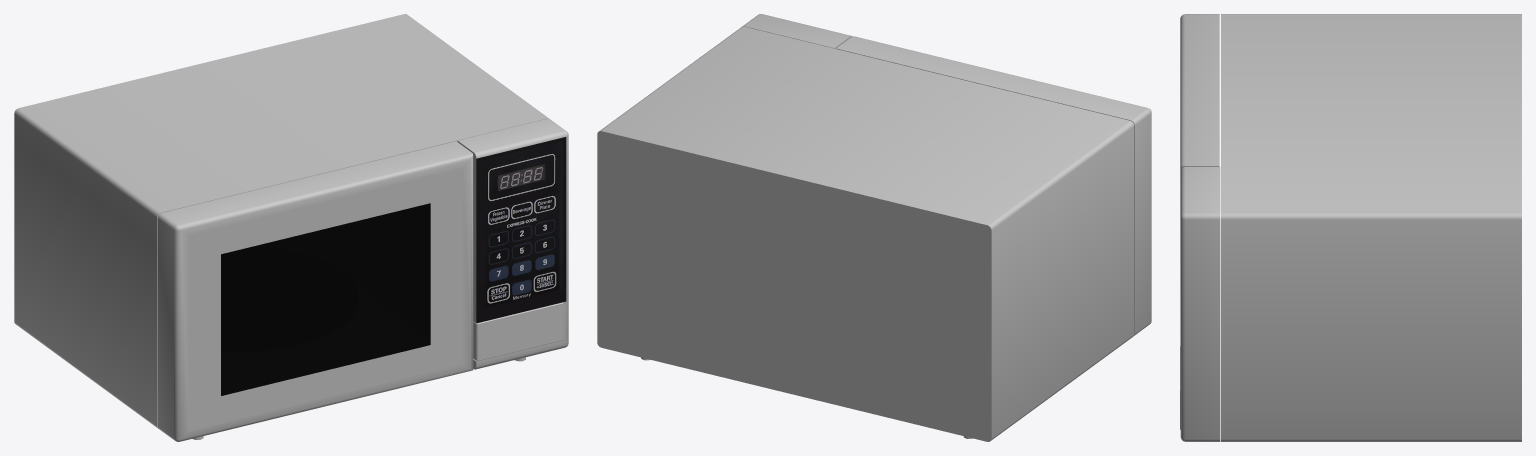
The picture shows the model from 3 angles, left to right: view 1: azimuth 30°, elevation 25°; view 2: azimuth 150°, elevation 25°; view 3: azimuth 270°, elevation 25°; orthographic projection. The views are drawn at different scales.
Visible parts, largest first — view 1: Microwave; view 2: Microwave; view 3: Microwave.
Boxes of the visible parts, x1,y1,x2,y2 form: Microwave: [14, 14, 568, 441]; Microwave: [597, 14, 1151, 441]; Microwave: [1180, 14, 1521, 441].
Bounding box in the file's own units: 0.5633 × 0.3115 × 0.4013.
3 materials, 2 textured.
